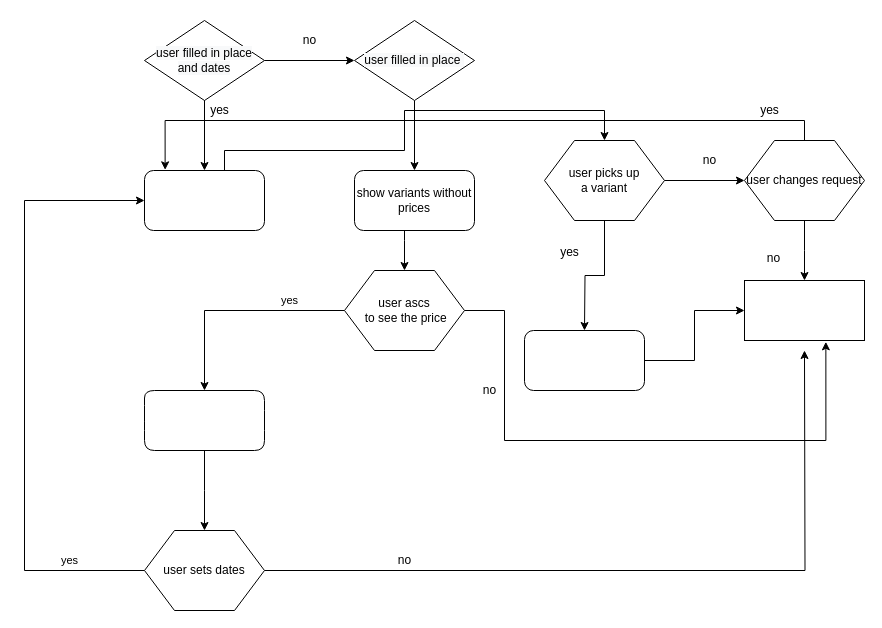
Image size: 882x628. Some labels were removed from this diagram. Each missing label, with the box of its shape:
book rooms: (524, 330, 644, 390)
Exit: (744, 280, 864, 340)
show calendar and tell user must pick up dates: (144, 390, 264, 450)
show variants with prices: (144, 170, 264, 230)
